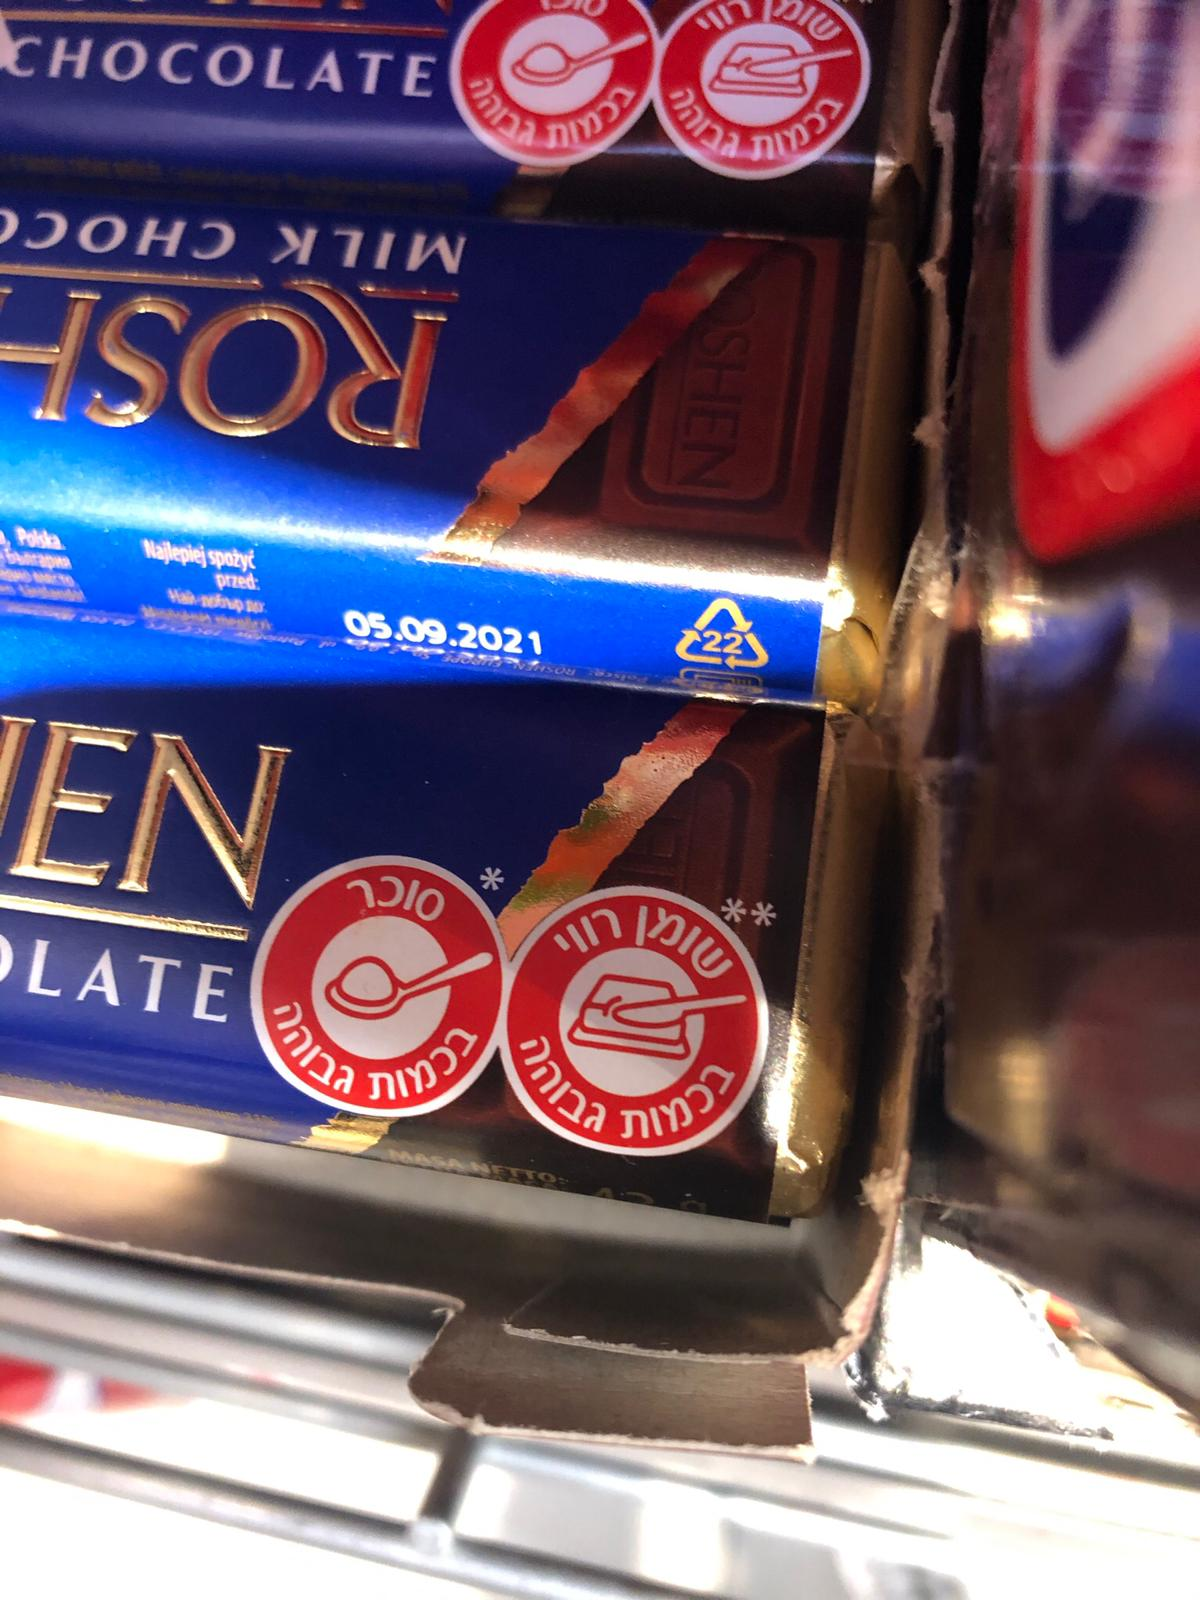fat: (497, 881, 774, 1163), (647, 1, 868, 181)
sugar: (247, 850, 505, 1121), (442, 5, 664, 170)
